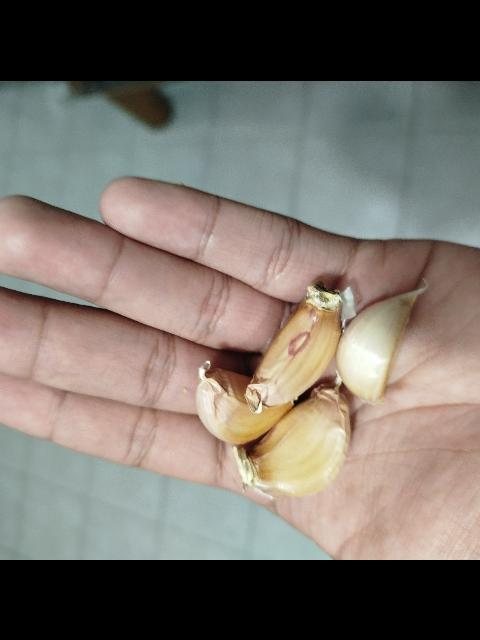garlic: (232, 379, 351, 499), (244, 281, 343, 413), (335, 277, 429, 405), (195, 360, 295, 444)
